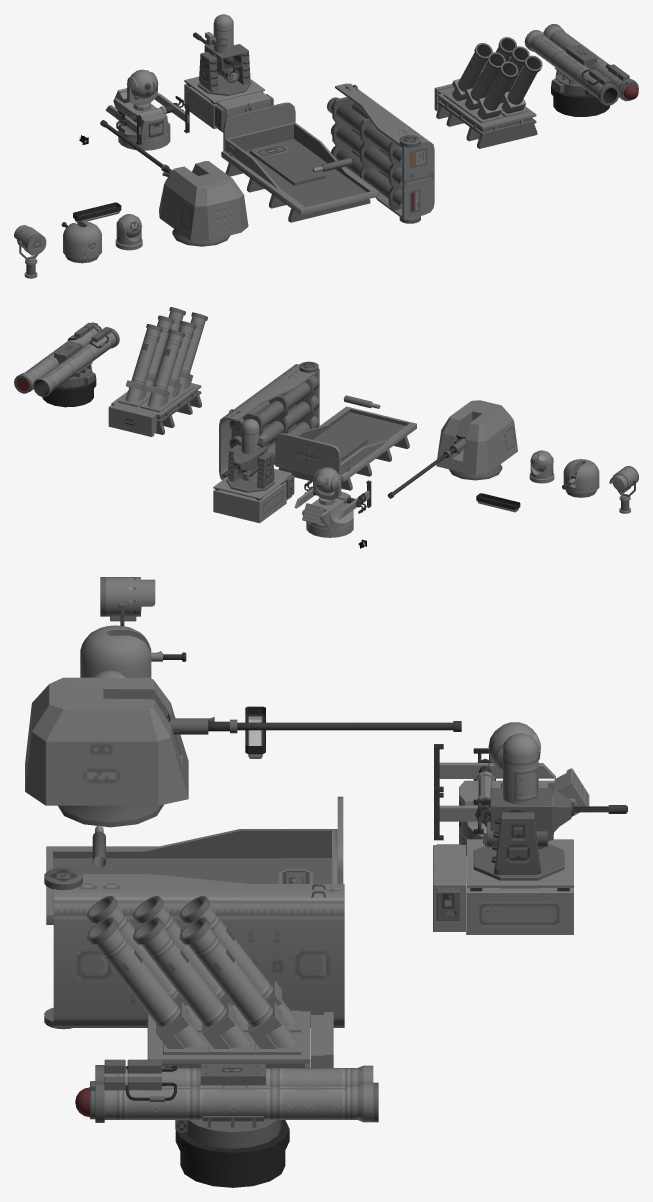
Rendered from aircraft_carrier_attachments.fbx.
The picture shows the model from 3 angles, top to bottom: view 1: azimuth 30°, elevation 25°; view 2: azimuth 150°, elevation 25°; view 3: azimuth 270°, elevation 25°; orthographic projection. The views are drawn at different scales.
Visible parts, largest first — view 1: cruise_missile_silo_base, cruise_missile_silo_top, decoy_torpedo_laucher, carrier_main_gun, torpedo_launcher, carrier_phalanx_base, carrier_phalanx_guntop, air_defence_missile_base_top, carrier_flare_launcher, air_defence_missile_stand, torpedo_launcher_base, spotlight (+6 smaller); view 2: decoy_torpedo_laucher, cruise_missile_silo_base, cruise_missile_silo_top, carrier_main_gun, carrier_phalanx_base, torpedo_launcher, carrier_phalanx_guntop, air_defence_missile_base_top, carrier_flare_launcher, torpedo_launcher_base, air_defence_missile_stand, carrier_main_gun_top (+6 smaller); view 3: cruise_missile_silo_top, decoy_torpedo_laucher, carrier_main_gun, torpedo_launcher, carrier_phalanx_base, cruise_missile_silo_base, carrier_phalanx_guntop, torpedo_launcher_base, carrier_flare_launcher, carrier_main_gun_top, air_defence_missile_stand, air_defence_missile_base_top (+3 smaller).
Boxes of the visible parts, box(x1,y1,x2,y2) form: cruise_missile_silo_base: box(221, 102, 378, 222); cruise_missile_silo_top: box(330, 83, 434, 223); decoy_torpedo_laucher: box(434, 37, 542, 148); carrier_main_gun: box(159, 161, 248, 246); torpedo_launcher: box(524, 25, 638, 105); carrier_phalanx_base: box(184, 44, 273, 132); carrier_phalanx_guntop: box(204, 14, 242, 83); air_defence_missile_base_top: box(113, 88, 170, 140); carrier_flare_launcher: box(63, 221, 101, 259); air_defence_missile_stand: box(105, 93, 189, 144); torpedo_launcher_base: box(551, 78, 609, 116); spotlight: box(14, 225, 46, 255); decoy_torpedo_laucher: box(108, 307, 207, 436); cruise_missile_silo_base: box(273, 406, 416, 490); cruise_missile_silo_top: box(219, 361, 319, 480); carrier_main_gun: box(436, 400, 517, 480); carrier_phalanx_base: box(213, 444, 294, 523); torpedo_launcher: box(20, 322, 119, 396); carrier_phalanx_guntop: box(232, 419, 267, 480); air_defence_missile_base_top: box(302, 491, 353, 528); carrier_flare_launcher: box(563, 459, 599, 493); torpedo_launcher_base: box(42, 372, 96, 407); air_defence_missile_stand: box(294, 480, 371, 519); carrier_main_gun_top: box(387, 435, 467, 498); cruise_missile_silo_top: box(44, 867, 344, 1029); decoy_torpedo_laucher: box(87, 896, 333, 1067); carrier_main_gun: box(25, 677, 188, 827); torpedo_launcher: box(95, 1059, 373, 1148); carrier_phalanx_base: box(433, 783, 573, 934); cruise_missile_silo_base: box(46, 796, 343, 924); carrier_phalanx_guntop: box(483, 733, 571, 849); torpedo_launcher_base: box(175, 1120, 289, 1187); carrier_flare_launcher: box(80, 625, 151, 678); carrier_main_gun_top: box(165, 714, 461, 734); air_defence_missile_stand: box(434, 744, 555, 840); air_defence_missile_base_top: box(459, 768, 589, 839).
Bounding box in the file's own units: 2889 × 566 × 1334.
Materials: 13 (11 with a texture image).
